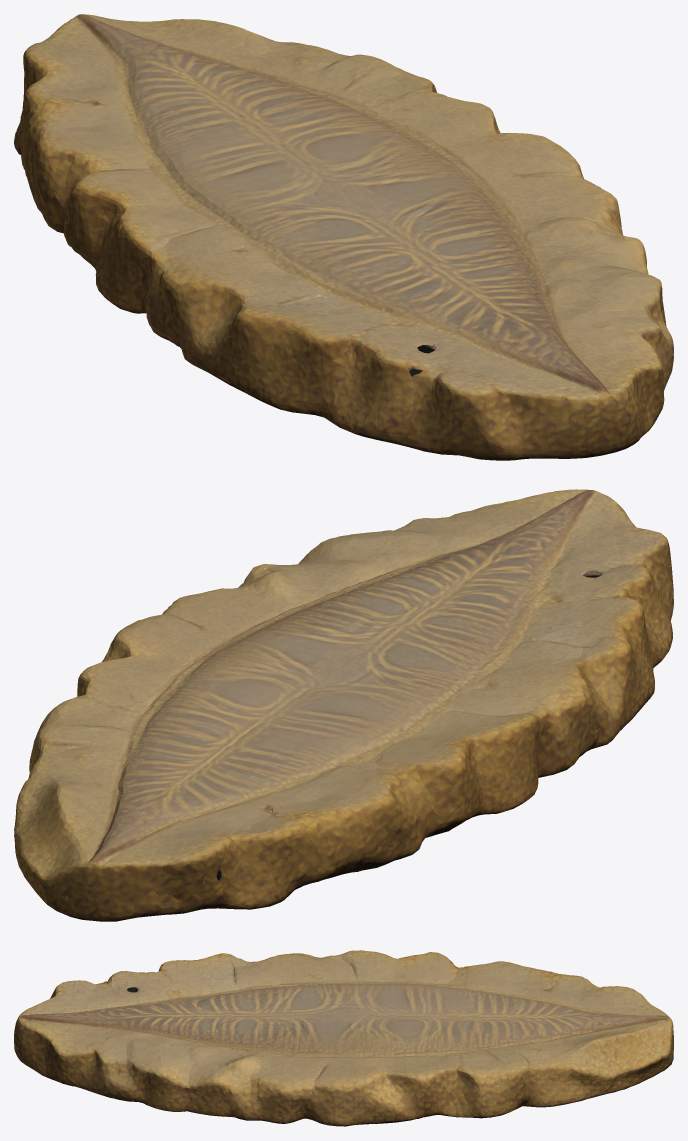
3 renders of one model, top to bottom at view 1: azimuth 30°, elevation 25°; view 2: azimuth 150°, elevation 25°; view 3: azimuth 270°, elevation 25°, orthographic. The views are drawn at different scales.
Parts seen in each view (by area): view 1: world; view 2: world; view 3: world.
Boxes of the visible parts, x1,y1,x2,y2 form: world: (14,14,673,460); world: (14,489,673,921); world: (14,950,673,1126).
Size of the model in its own units: 0.1491 by 0.0246 by 0.3014.
Materials: 1 (1 with a texture image).
